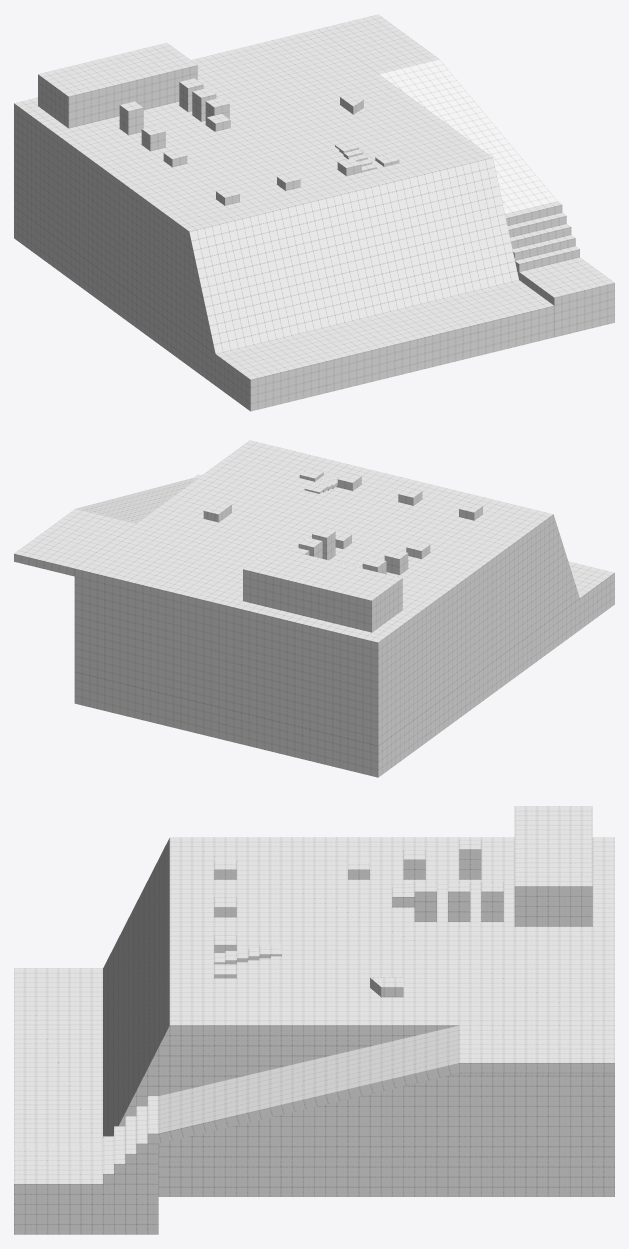
Rendered from playground3.glb.
3 renders of one model, top to bottom at view 1: azimuth 30°, elevation 25°; view 2: azimuth 150°, elevation 25°; view 3: azimuth 270°, elevation 25°, orthographic. The views are drawn at different scales.
Visible parts, largest first — view 1: Floor, Cube.001, Wall, Cube.002, Cube.003; view 2: Floor, Wall, Cube.001, Cube.003, Cube.011; view 3: Floor, Cube.001, Wall, Cube.002, Cube.010, Cube.011, Cube.012, Cube.003, Cube.007.
Part boxes in pixels (box(x1,y1,x2,y2)): Floor: box(14, 29, 554, 411); Cube.001: box(318, 14, 614, 337); Wall: box(38, 43, 197, 128); Cube.002: box(119, 101, 143, 135); Cube.003: box(141, 125, 165, 151); Floor: box(74, 440, 614, 777); Wall: box(243, 547, 402, 632); Cube.001: box(14, 474, 201, 576); Cube.003: box(384, 549, 408, 574); Cube.011: box(312, 528, 335, 560); Floor: box(14, 837, 614, 1196); Cube.001: box(14, 1025, 614, 1234); Wall: box(514, 806, 592, 926); Cube.002: box(459, 840, 481, 879); Cube.010: box(481, 882, 503, 921); Cube.011: box(414, 882, 436, 921); Cube.012: box(448, 882, 470, 921); Cube.003: box(403, 850, 425, 879); Cube.007: box(370, 977, 403, 997).
Bounding box in the file's own units: 48 × 21 × 54.
14 materials, 14 textured.
